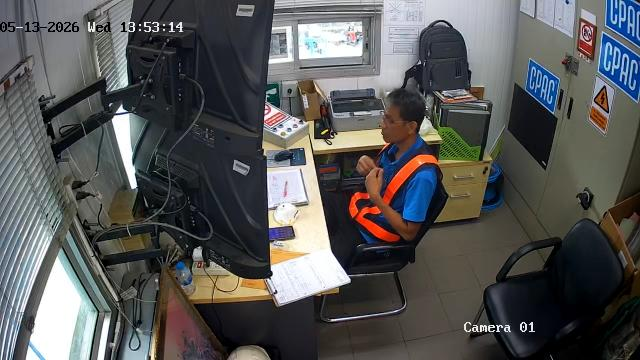Head: (380, 89, 425, 142)
People: (322, 89, 441, 266)
Phone: (269, 226, 294, 241)
